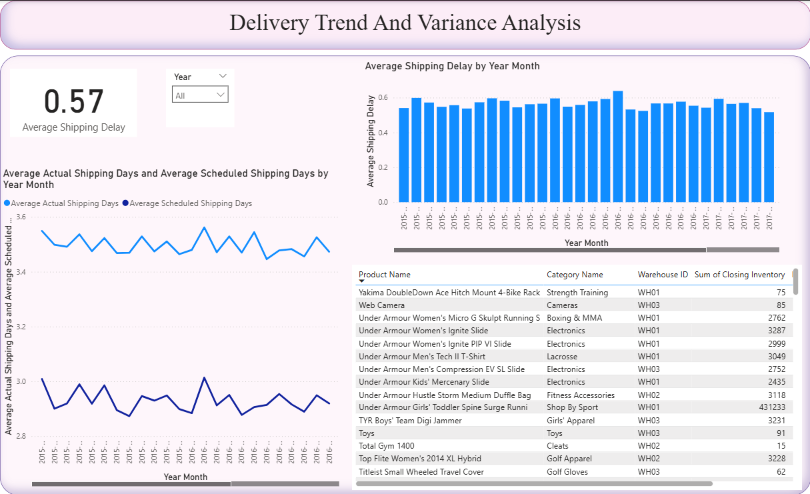

The dashboard page shown, as its layout file describes it:
{"tool":"powerbi","page":{"name":"milestone2","canvas":[1330,810],"ordinal":3},"visuals":[{"type":"textbox","box":[0,0,1328,80],"z":0},{"type":"textbox","box":[0,90,1328,720],"z":1000},{"type":"card","fields":{"Values":["FactOrders.Average Shipping Delay"]},"box":[16,112,208,112],"z":2000},{"type":"lineChart","fields":{"Category":["DimDate.Year Month"],"Y":["FactOrders.Average Actual Shipping Days","FactOrders.Average Scheduled Shipping Days"]},"box":[0,272,560,528],"z":3000},{"type":"clusteredColumnChart","fields":{"Category":["DimDate.Year Month"],"Y":["FactOrders.Average Shipping Delay"]},"box":[592,96,688,320],"z":4000},{"type":"slicer","fields":{"Values":["DimDate.Year"]},"box":[272,112,112,96],"z":5000},{"type":"tableEx","fields":{"Values":["DimProduct.Product Name","DimProduct.Category Name","FactInventory.Warehouse ID","Sum(FactInventory.Closing Inventory)","FactInventory.Inventory Turnover (Proxy)"]},"box":[576,432,736,368],"z":6000}]}

Visuals, with their boxes in screenshot pixels (x1, y1, x2, y2), scaled from the page's 1330x810 canvas onto the 810x494 screenshot:
textbox: region(0, 0, 809, 49)
textbox: region(0, 55, 809, 493)
card - FactOrders.Average Shipping Delay: region(10, 68, 136, 137)
lineChart - DimDate.Year Month x FactOrders.Average Actual Shipping Days: region(0, 166, 341, 488)
clusteredColumnChart - DimDate.Year Month x FactOrders.Average Shipping Delay: region(361, 59, 780, 254)
slicer - DimDate.Year: region(166, 68, 234, 127)
tableEx - DimProduct.Product Name x DimProduct.Category Name: region(351, 263, 799, 488)
